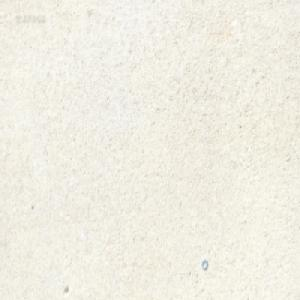Washer: (201, 259, 208, 271)
